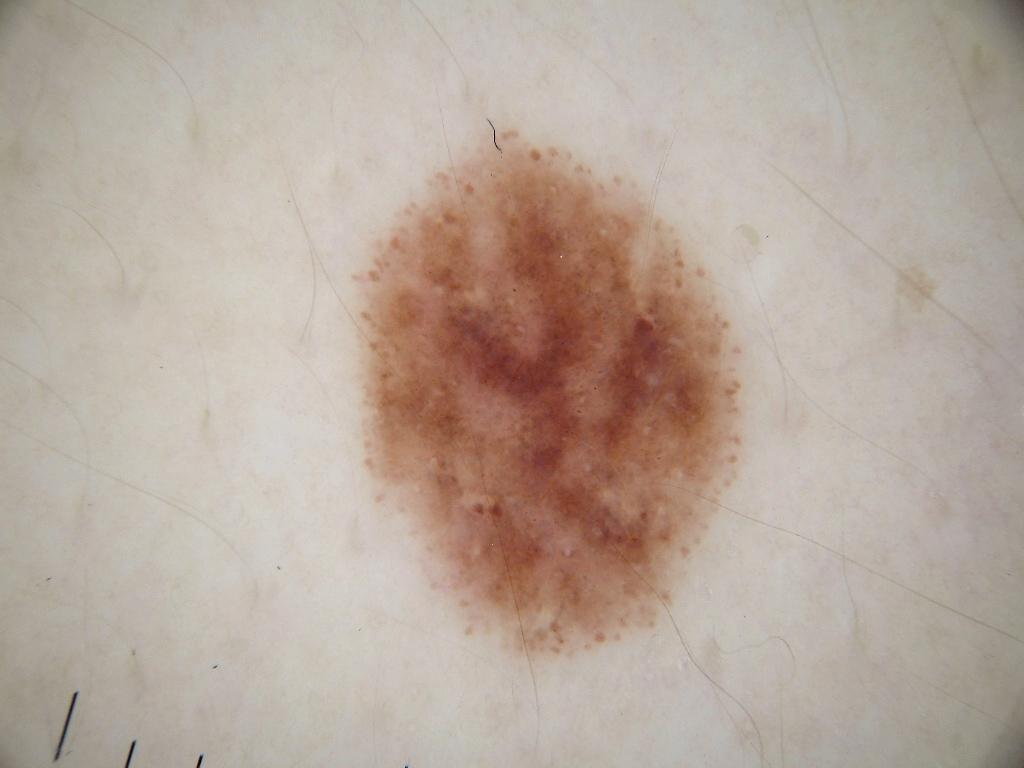Detected Lesion: (338, 121, 757, 666)
